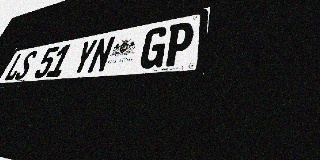1: (45, 43, 73, 77)
5: (33, 46, 60, 79)
G: (138, 25, 170, 69)
L: (3, 52, 28, 81)
N: (86, 35, 116, 74)
P: (162, 21, 195, 67)
S: (13, 50, 39, 80)
Y: (70, 39, 99, 75)
